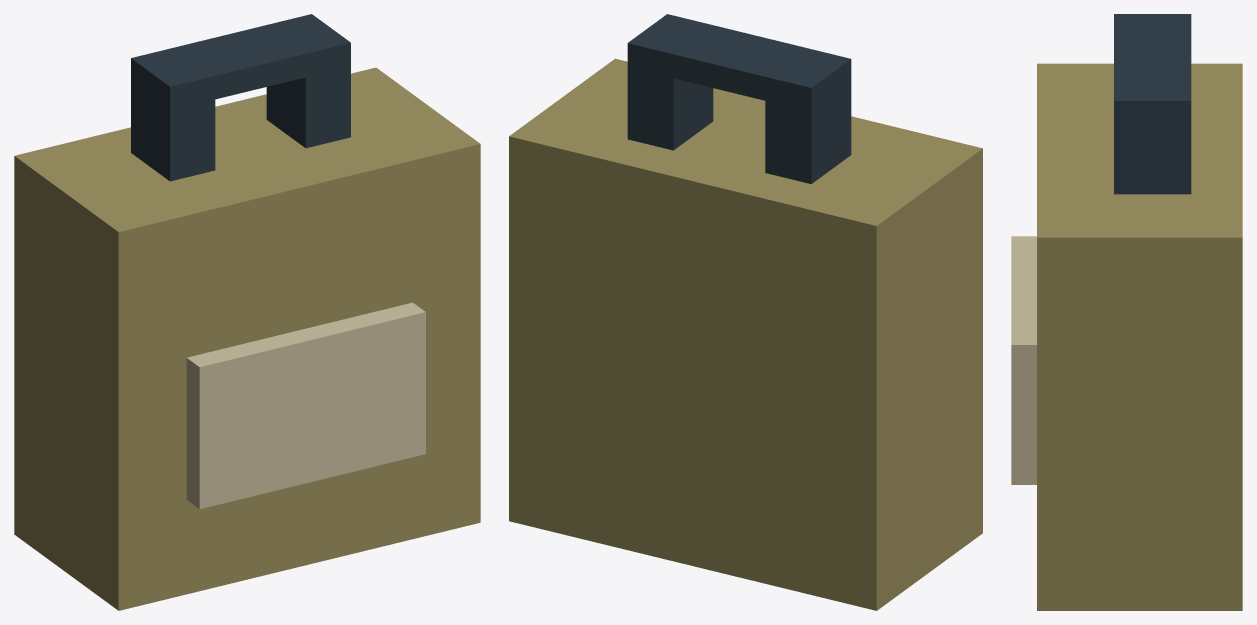
The model's file is sports-15.glb.
3 views of the same model, side by side, from view 1: azimuth 30°, elevation 25°; view 2: azimuth 150°, elevation 25°; view 3: azimuth 270°, elevation 25° (orthographic). The views are drawn at different scales.
Parts seen in each view (by area): view 1: Sports bag; view 2: Sports bag; view 3: Sports bag.
Boxes of the visible parts, box(x1,y1,x2,y2) form: Sports bag: box(14, 14, 480, 610); Sports bag: box(509, 14, 982, 610); Sports bag: box(1011, 14, 1242, 610).
Bounding box in the file's own units: 1.28 × 1.6 × 0.72.
